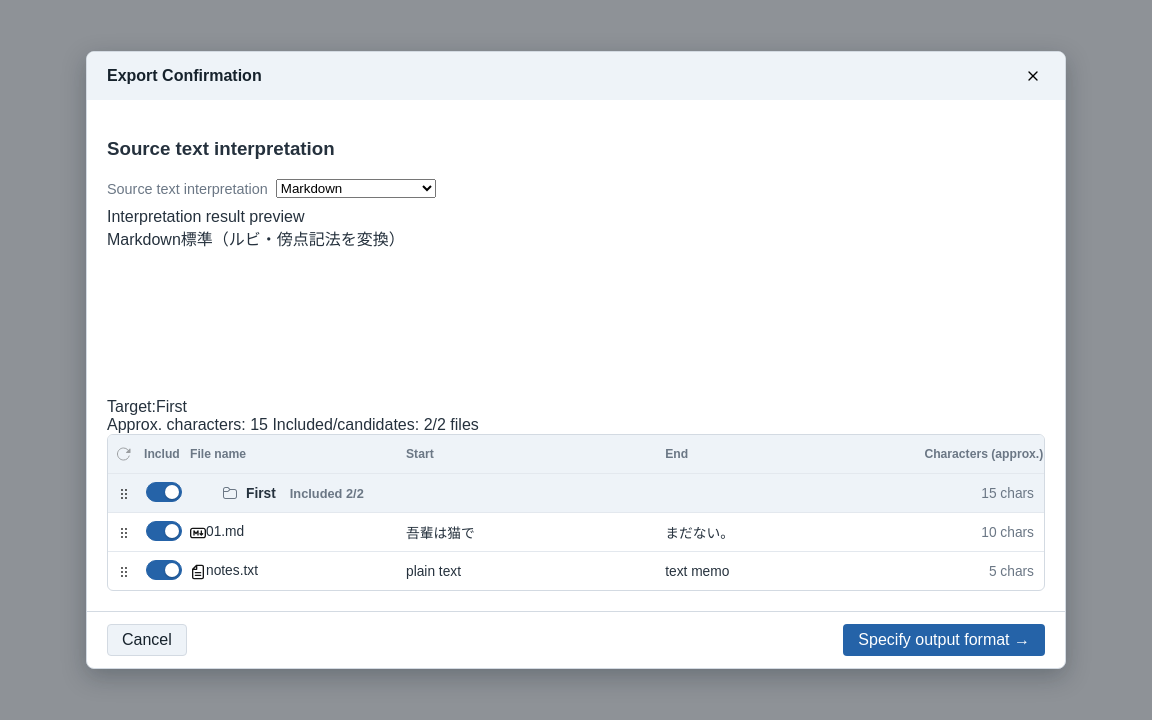
Scenario: ExportConfirmationDialog (#523) › reloads after confirmation when candidate list is dirty
Expected: the button named "Reload" is disabled, [112, 442, 136, 466]
Click the checkbox named "Include 01.md": (164, 531) [144, 520, 184, 542]
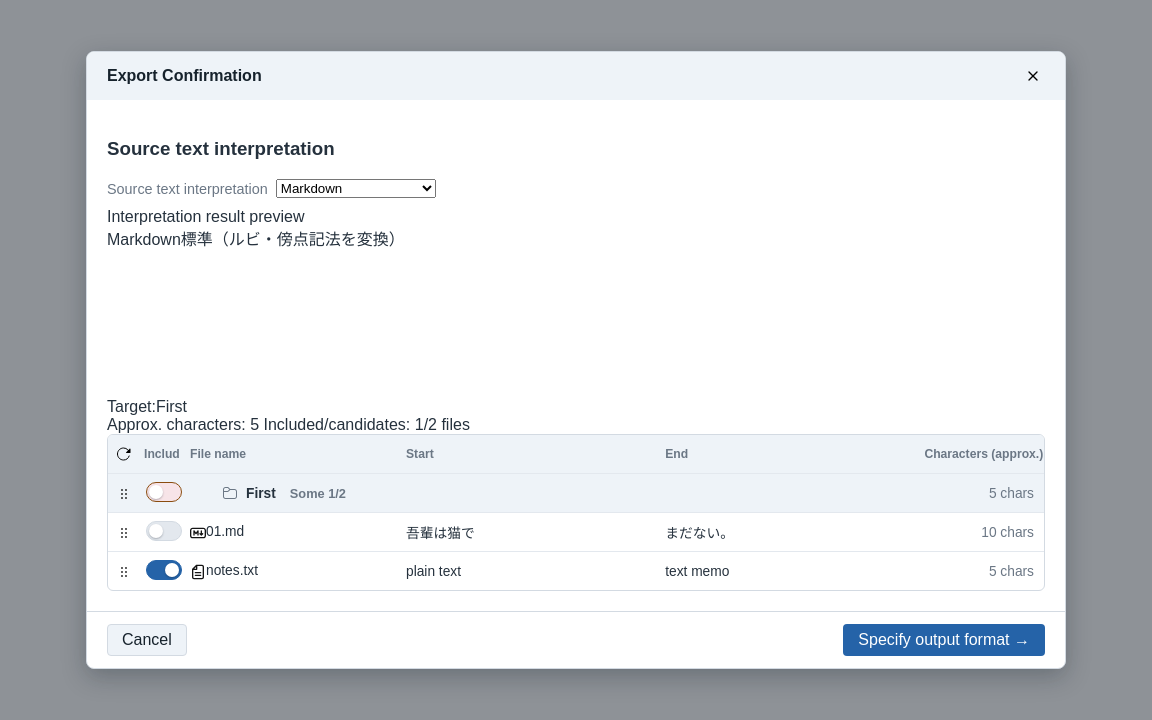
Expected: the button named "Reload" is enabled
Click the button named "Reload": (124, 454) [112, 442, 136, 466]
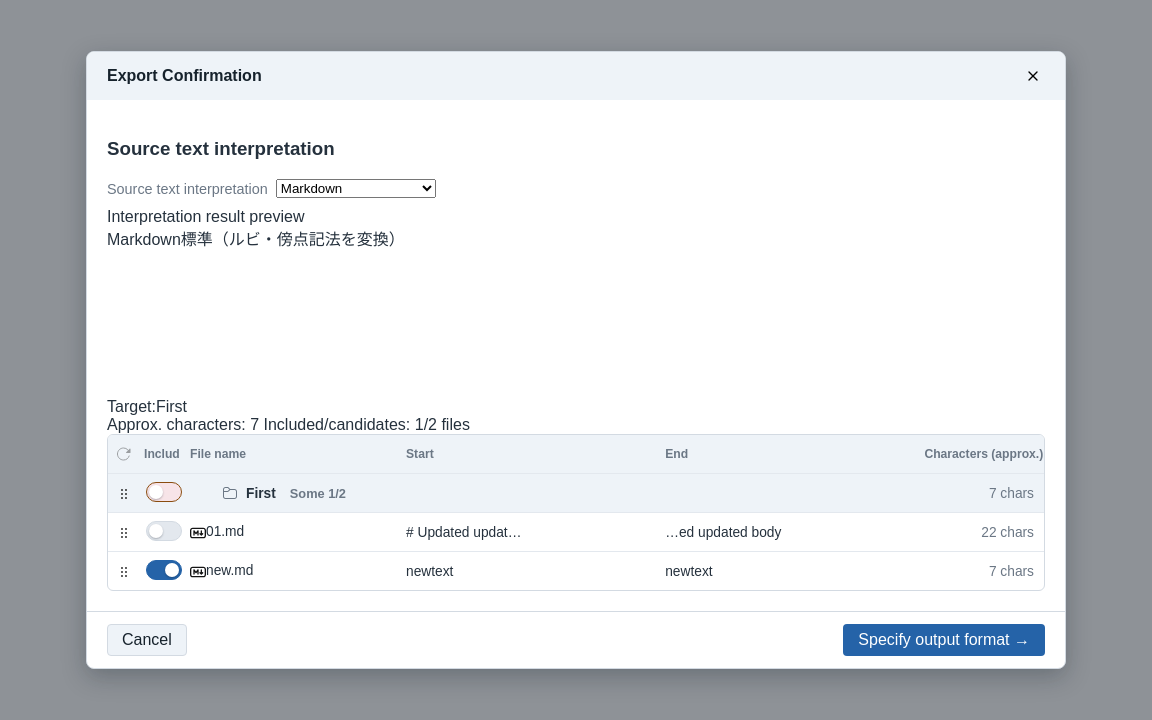
Expected: the text "Approx. characters: 7 Included/candidates: 1/2 files" is shown, [107, 416, 470, 433]
Expected: the button named "Reload" is disabled, [112, 442, 136, 466]
